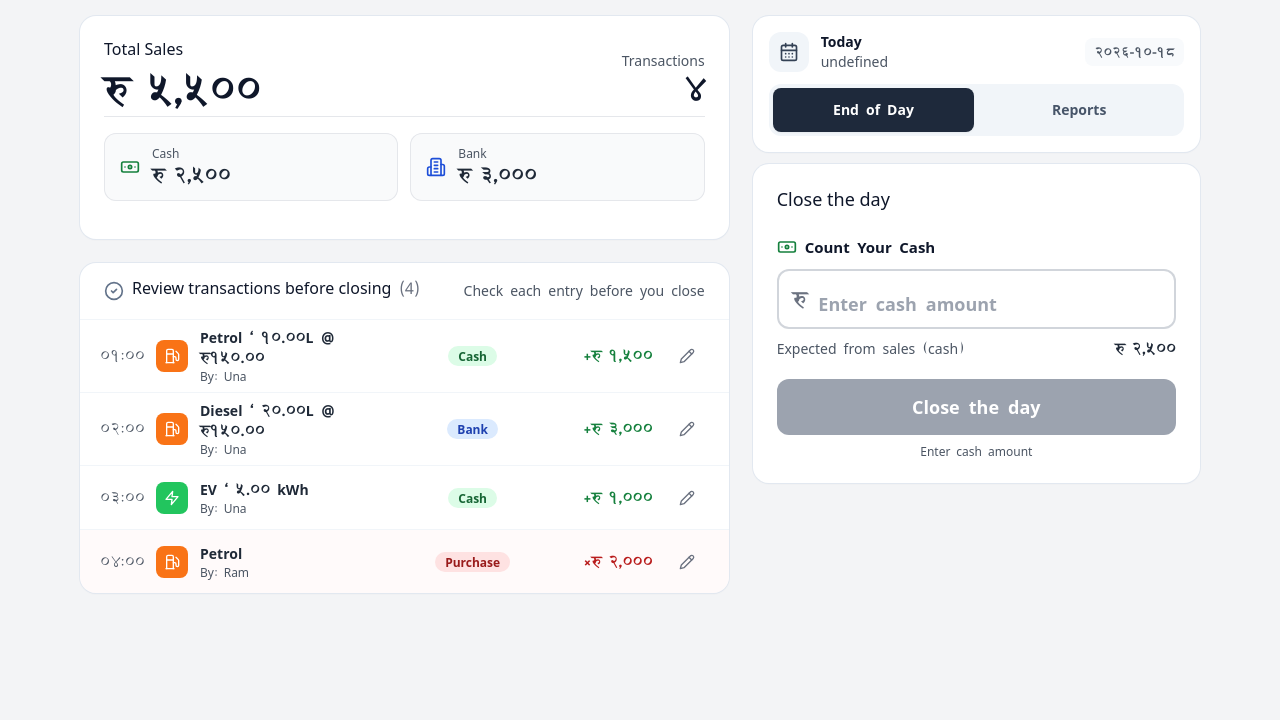
Test: End of Day, Reports tab › shows the day's result: net, count, income, expense, cash and bank
The width and height of the screenshot is (1280, 720).
Click the button "Reports".
click(1079, 110)  # box [978, 88, 1180, 132]
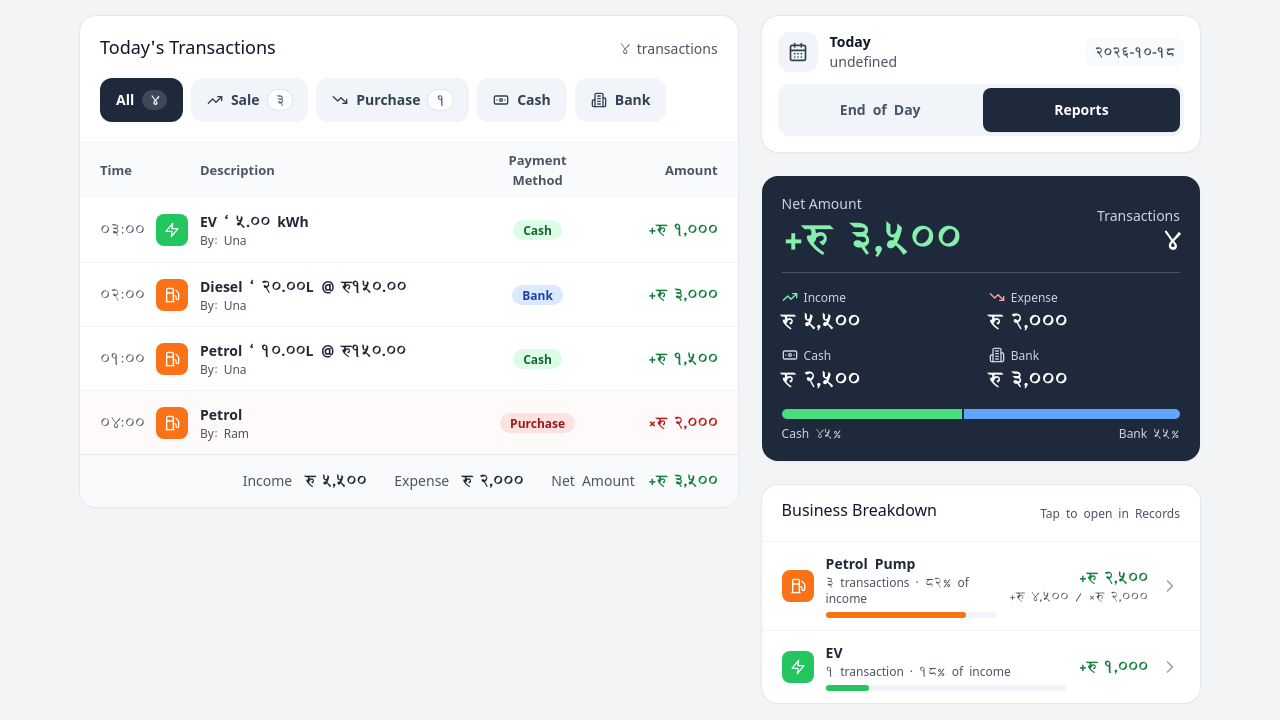
Check: the text "+रु 3,500" below "undefined" is shown, box [782, 220, 961, 256]
Check: the text "4" below "undefined" is shown, box [1163, 220, 1180, 261]
Check: the text "रु 5,500" below "undefined" is shown, box [782, 306, 860, 336]
